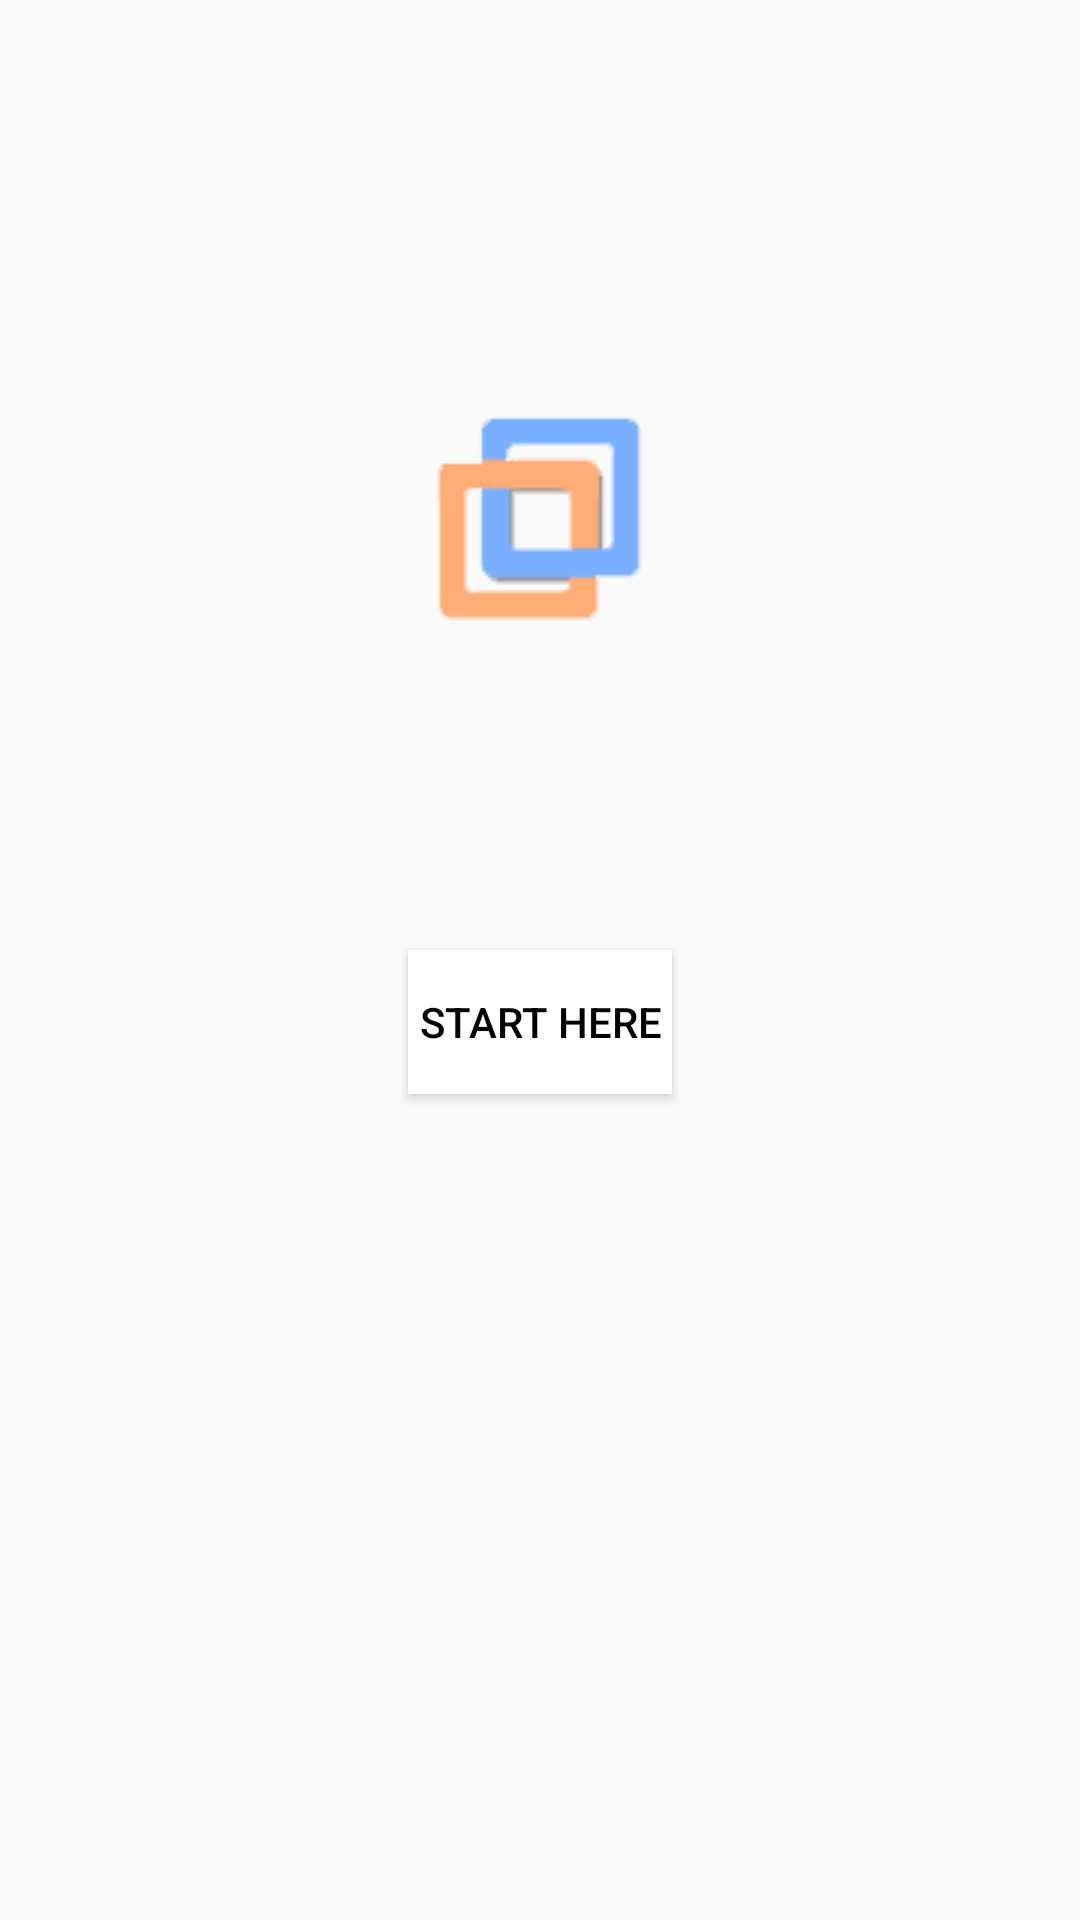

Icon bounding boxes for this 1080×1920 phone screenshot, format (x1, y1, x2, y2):
app: (438, 418, 641, 620)
